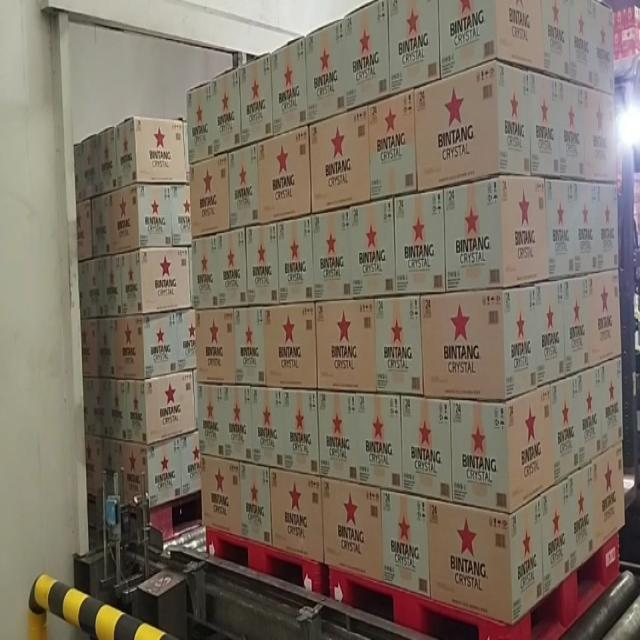pallet: (323, 1, 630, 640), (186, 29, 326, 605), (68, 102, 206, 547)
